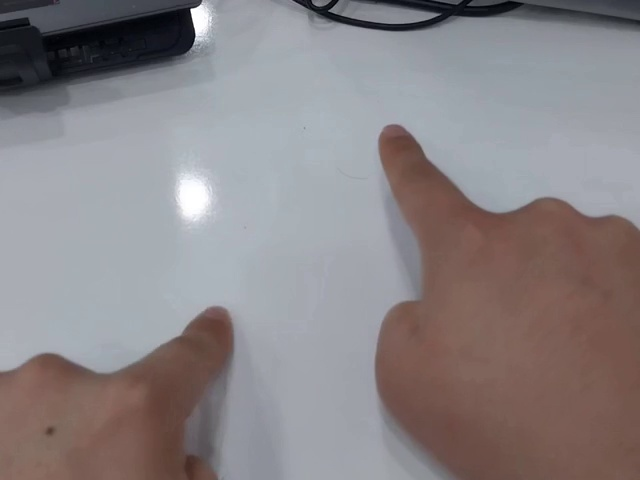fingers: (181, 305, 233, 356), (377, 123, 424, 172)
